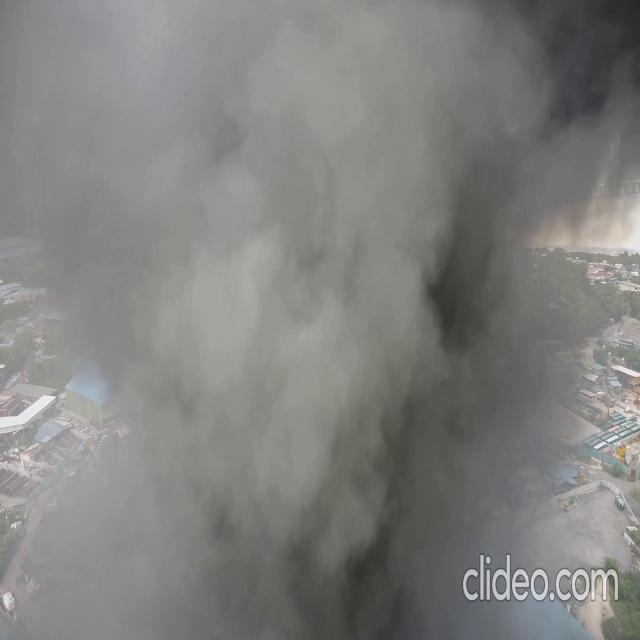Smoke: (33, 1, 618, 624)
